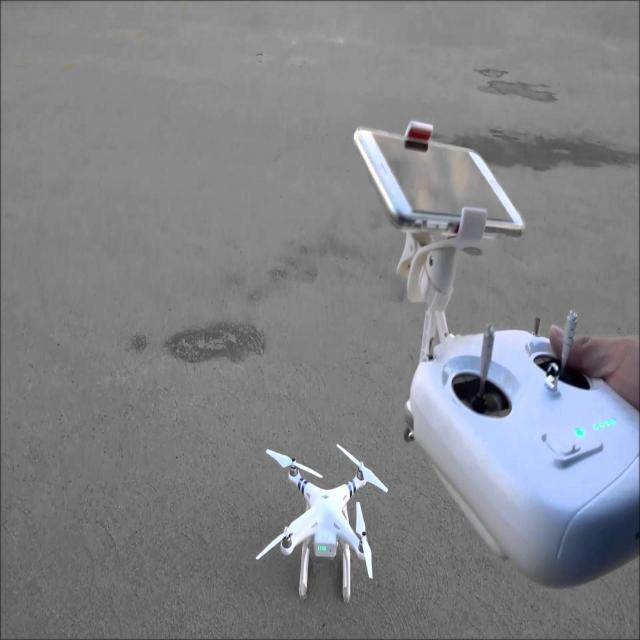drones: (258, 431, 391, 618)
